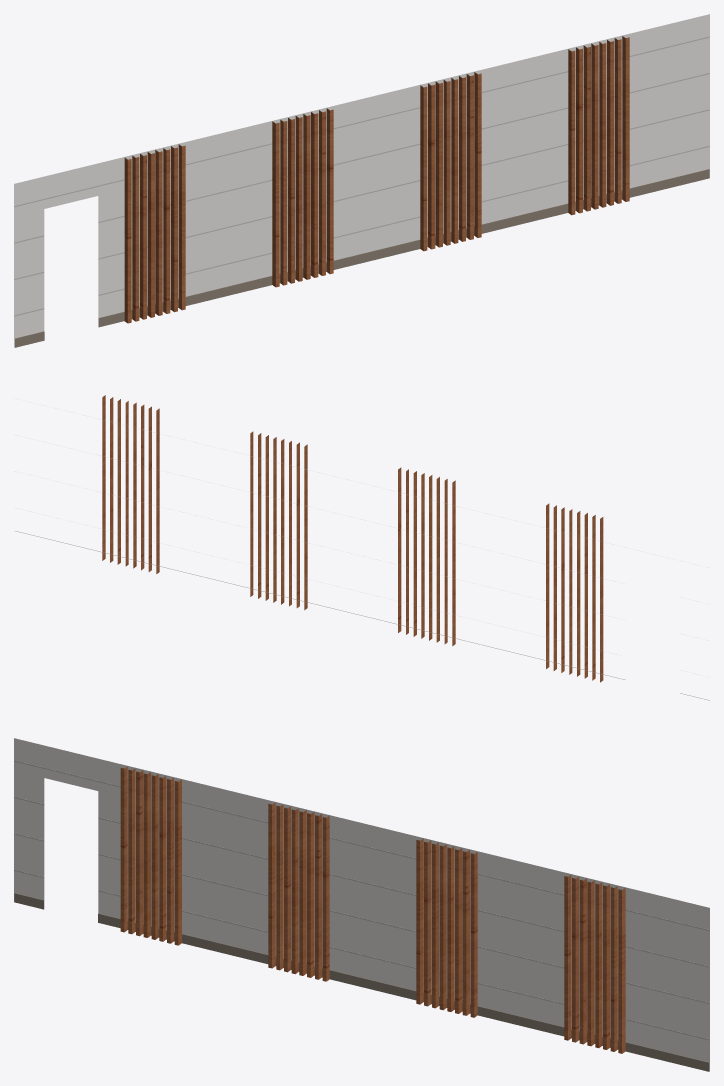
Rendered from CR_RightWall.glb.
3 views of the same model, one above another, from view 1: azimuth 30°, elevation 25°; view 2: azimuth 150°, elevation 25°; view 3: azimuth 330°, elevation 25° (orthographic).
Parts seen in each view (by area): view 1: Right_Wall; view 2: Right_Wall; view 3: Right_Wall.
Boxes of the visible parts, x1,y1,x2,y2 form: Right_Wall: (14,14,709,347); Right_Wall: (14,395,709,700); Right_Wall: (14,738,709,1071).
Size of the model in its own units: 12 by 2.7 by 0.1101.
Materials: 4 (1 with a texture image).
